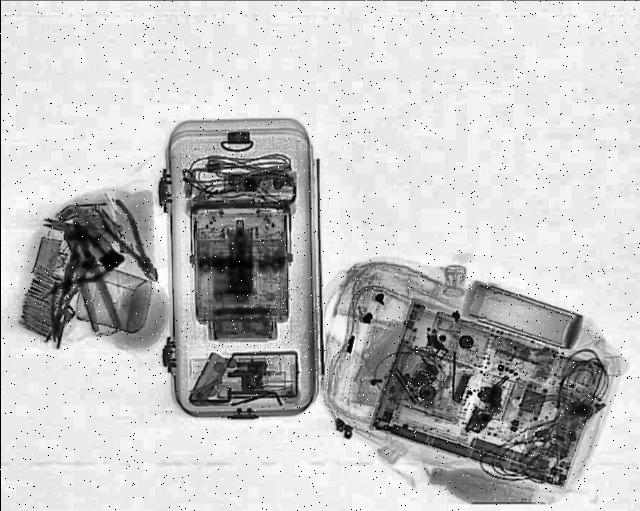Pliers: (88, 196, 174, 284)
